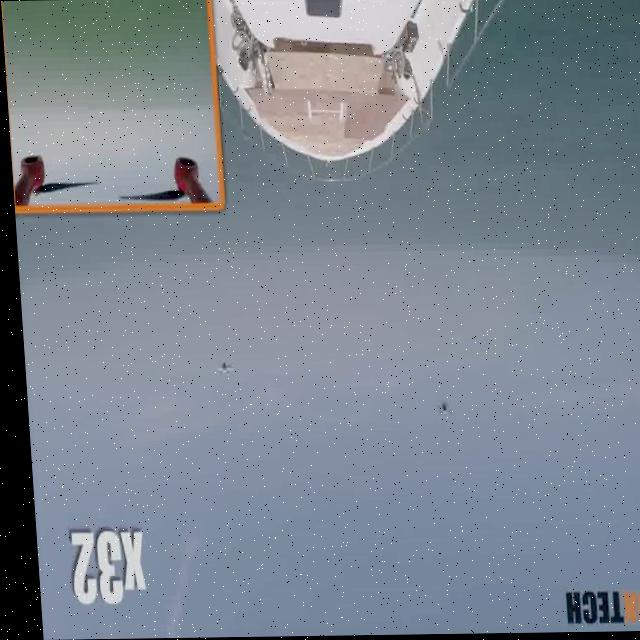drone: (426, 392, 453, 426), (206, 362, 233, 382)
